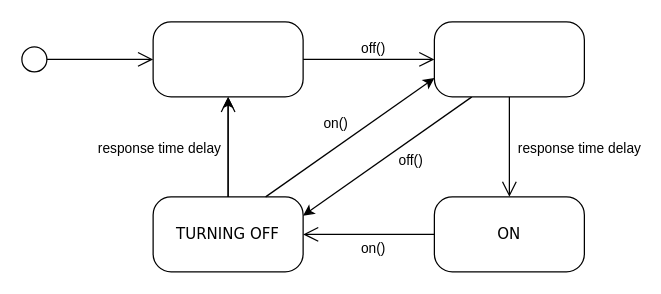
Image size: 661x294. Some labels were removed from this diagram. The shapes that lost their labels are listed below. From the top down, each one's centre as x and y in pixels, then its label:
the point at 227,59: OFF
the point at 508,59: TURNING ON
